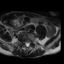CCS_normal: (26, 41, 28, 48)
LFS_stenosis: (30, 39, 32, 45)
LLS_normal: (28, 41, 30, 47)
RFS_stenosis: (23, 39, 24, 44)
RLS_normal: (24, 41, 26, 46)
